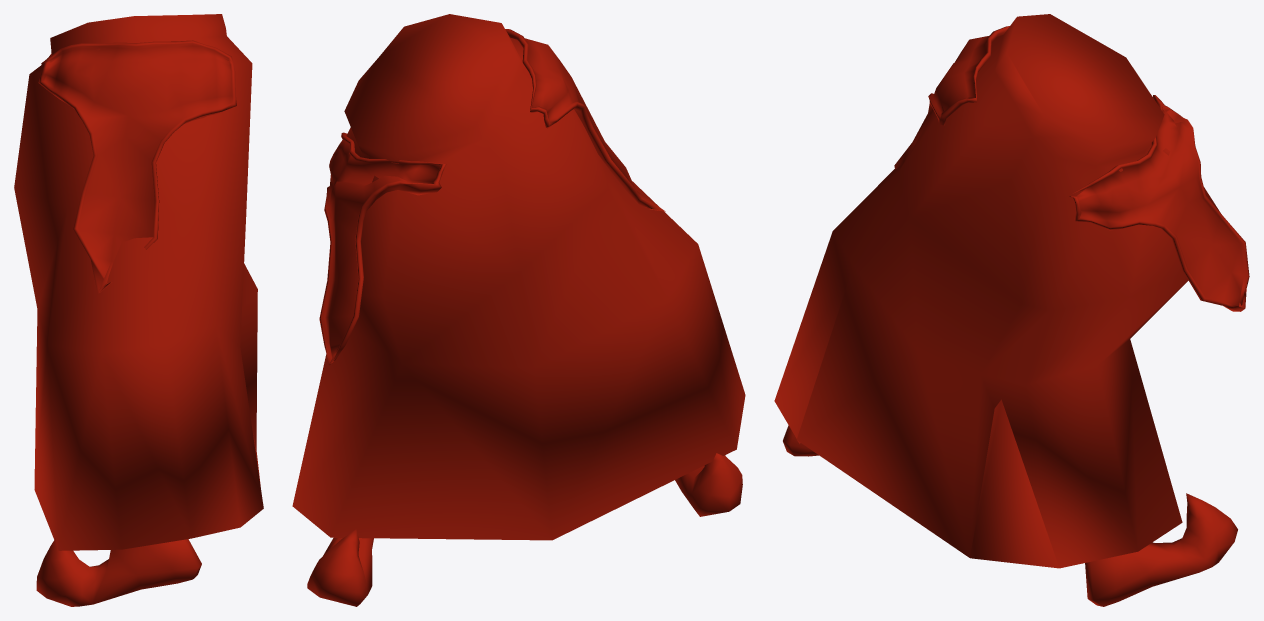
File: bot_000049.obj
The picture shows the model from 3 angles, left to right: view 1: azimuth 30°, elevation 25°; view 2: azimuth 150°, elevation 25°; view 3: azimuth 270°, elevation 25°; orthographic projection. The views are drawn at different scales.
Visible parts, largest first — view 1: LowPoly_Warlock.004_Plane.004; view 2: LowPoly_Warlock.004_Plane.004; view 3: LowPoly_Warlock.004_Plane.004.
Boxes of the visible parts, x1=… form: LowPoly_Warlock.004_Plane.004: x1=14, y1=14, x2=263, y2=606; LowPoly_Warlock.004_Plane.004: x1=292, y1=14, x2=745, y2=606; LowPoly_Warlock.004_Plane.004: x1=774, y1=14, x2=1249, y2=606.
Bounding box in the file's own units: 0.6732 × 1.14 × 0.9092.
